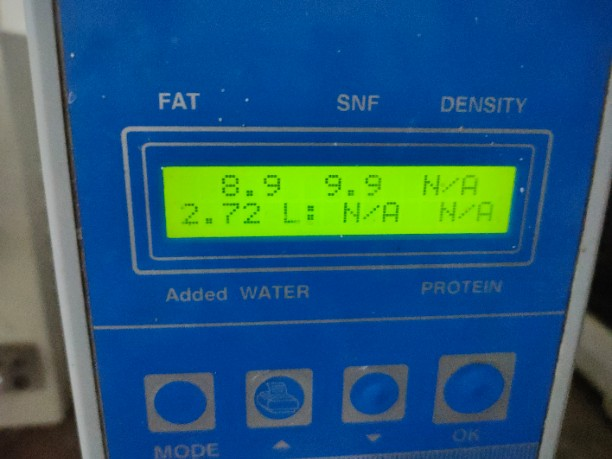lcd: (152, 158, 521, 243)
